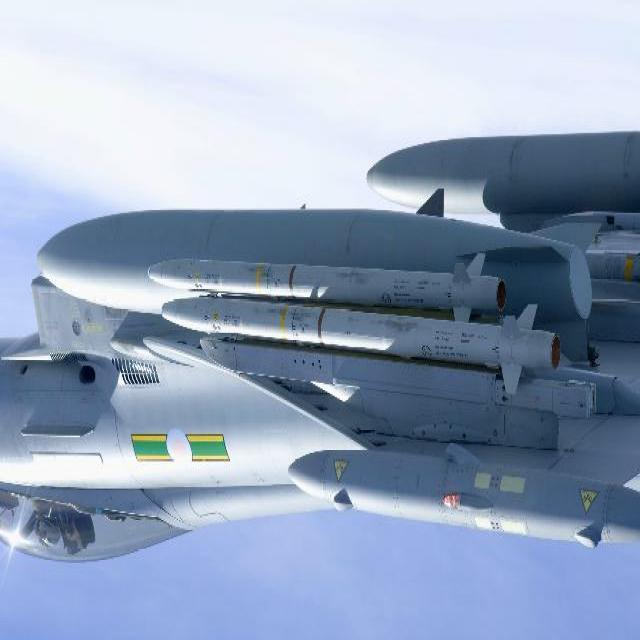missile: (158, 290, 560, 389), (149, 259, 513, 321)
